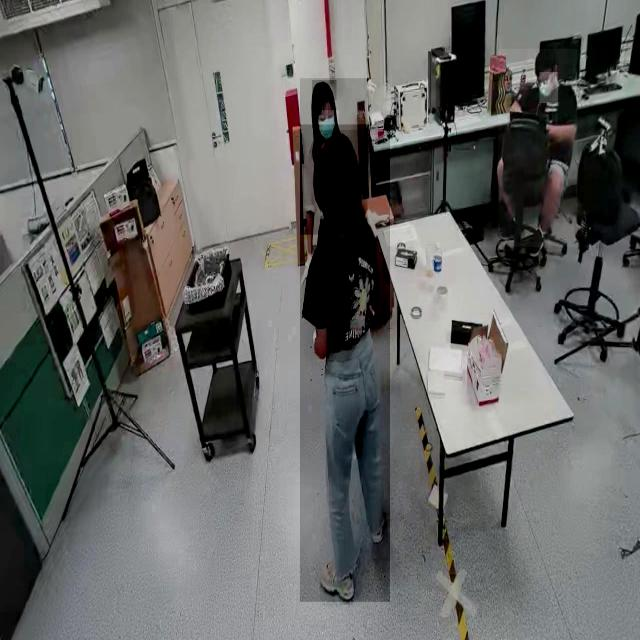face_mask: (316, 110, 338, 148), (539, 72, 558, 104)
head_nohelmet: (314, 130, 360, 178), (535, 44, 557, 70), (312, 80, 336, 101)
person: (300, 125, 390, 602), (498, 49, 578, 248), (300, 78, 368, 235)
shoes: (318, 562, 356, 600), (367, 498, 387, 548)
